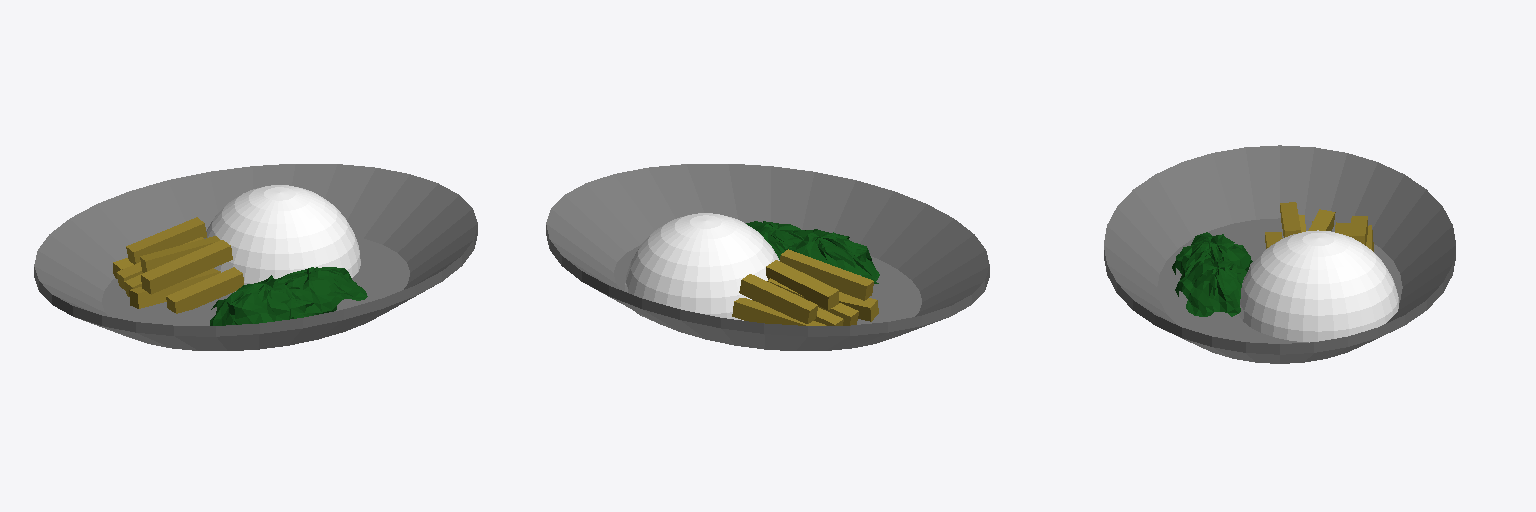
The model's file is rice2_meat3_veg2.obj.
3 views of the same model, side by side, from view 1: azimuth 30°, elevation 25°; view 2: azimuth 150°, elevation 25°; view 3: azimuth 270°, elevation 25° (orthographic).
Parts seen in each view (by area): view 1: Cylinder, Sphere, Sphere.002, Sphere.001, Cube.007, Cube.004_Cube.005, Cube.005_Cube.000, Cube.002_Cube.003, Cube.006; view 2: Cylinder, Sphere, Sphere.002, Cube.007, Cube.005_Cube.000, Cube.006, Cube.003_Cube.004, Sphere.001, Cube.002_Cube.003, Cube.001_Cube.002; view 3: Cylinder, Sphere, Sphere.001, Sphere.002, Cube.007.
Boxes of the visible parts, x1=… form: Cylinder: x1=34, y1=164, x2=477, y2=350; Sphere: x1=204, y1=185, x2=360, y2=291; Sphere.002: x1=210, y1=275, x2=314, y2=325; Sphere.001: x1=278, y1=267, x2=367, y2=318; Cube.007: x1=141, y1=240, x2=232, y2=294; Cube.004_Cube.005: x1=166, y1=267, x2=243, y2=313; Cube.005_Cube.000: x1=126, y1=217, x2=206, y2=264; Cube.002_Cube.003: x1=129, y1=268, x2=220, y2=308; Cube.006: x1=140, y1=236, x2=219, y2=272; Cylinder: x1=546, y1=164, x2=989, y2=350; Sphere: x1=625, y1=213, x2=779, y2=321; Sphere.002: x1=783, y1=229, x2=879, y2=283; Cube.007: x1=780, y1=249, x2=873, y2=300; Cube.005_Cube.000: x1=739, y1=274, x2=817, y2=323; Cube.006: x1=766, y1=260, x2=838, y2=309; Cube.003_Cube.004: x1=732, y1=298, x2=826, y2=325; Sphere.001: x1=746, y1=221, x2=803, y2=259; Cube.002_Cube.003: x1=839, y1=292, x2=878, y2=321; Cube.001_Cube.002: x1=767, y1=278, x2=858, y2=325; Cylinder: x1=1104, y1=145, x2=1455, y2=363; Sphere: x1=1238, y1=230, x2=1398, y2=342; Sphere.001: x1=1175, y1=257, x2=1246, y2=316; Sphere.002: x1=1172, y1=232, x2=1252, y2=276; Cube.007: x1=1280, y1=202, x2=1300, y2=237.
Size of the model in its own units: 5.75 by 1.05 by 4.31.